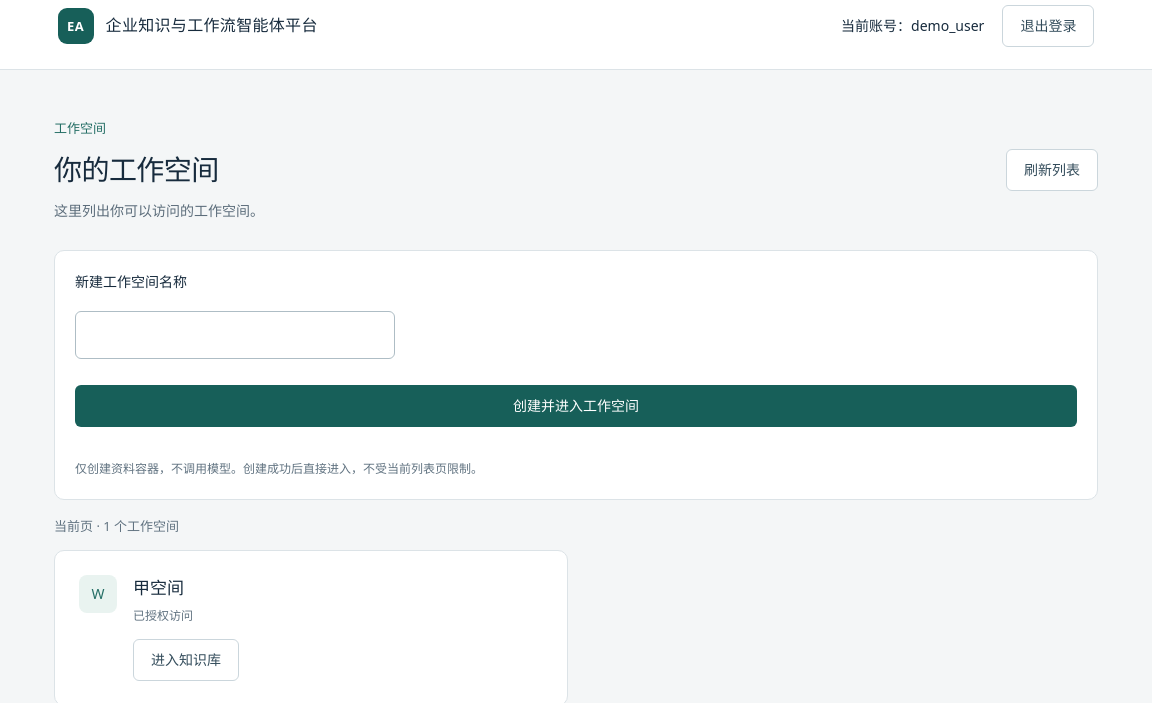
Test: self-service workspace and knowledge-base setup › validates locally, then keeps duplicate-name rejection separate from a valid empty list
The width and height of the screenshot is (1152, 703).
Click the button with aria-label "进入甲空间" at (186, 660), box [133,639,239,681]
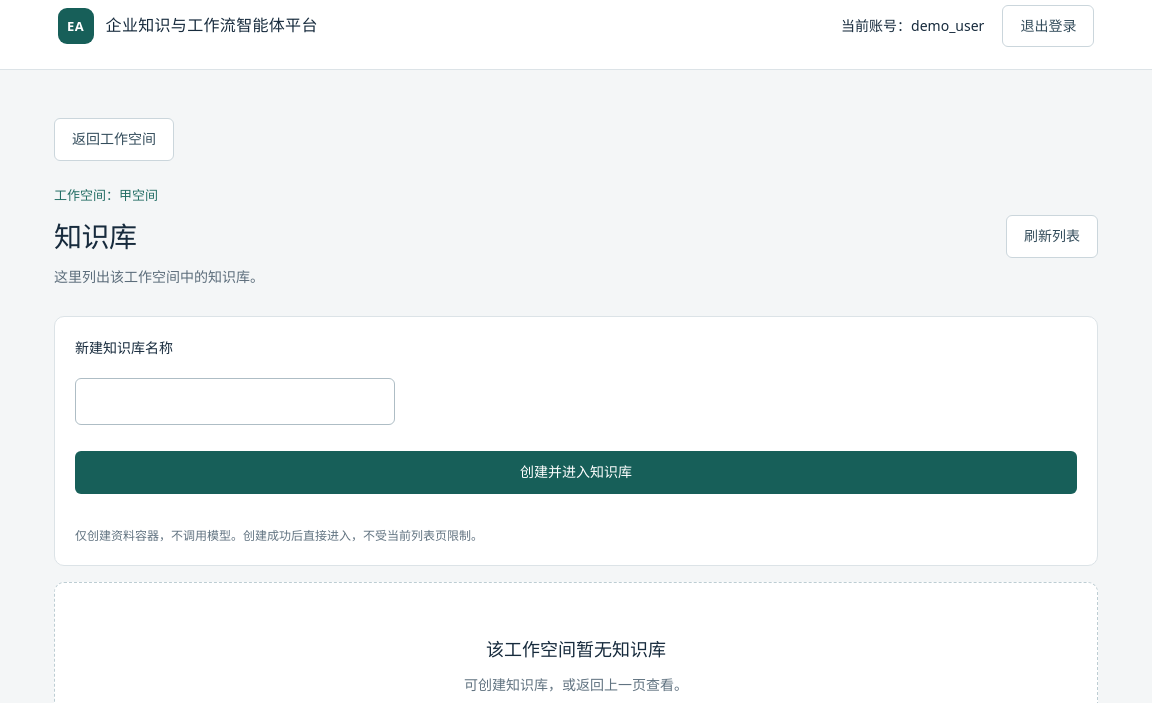
Click the button "创建并进入知识库" at (576, 472), box [75,451,1077,494]
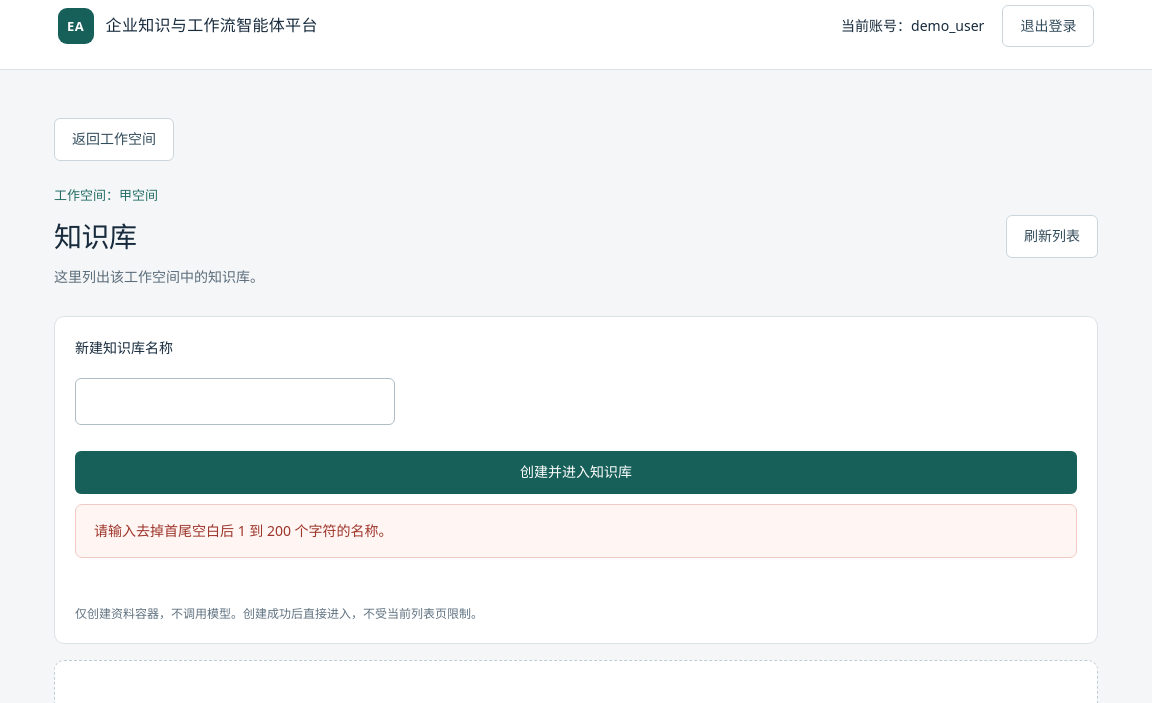
Type "已有名称" into the field labelled "新建知识库名称" at (235, 402), box [75,378,395,425]
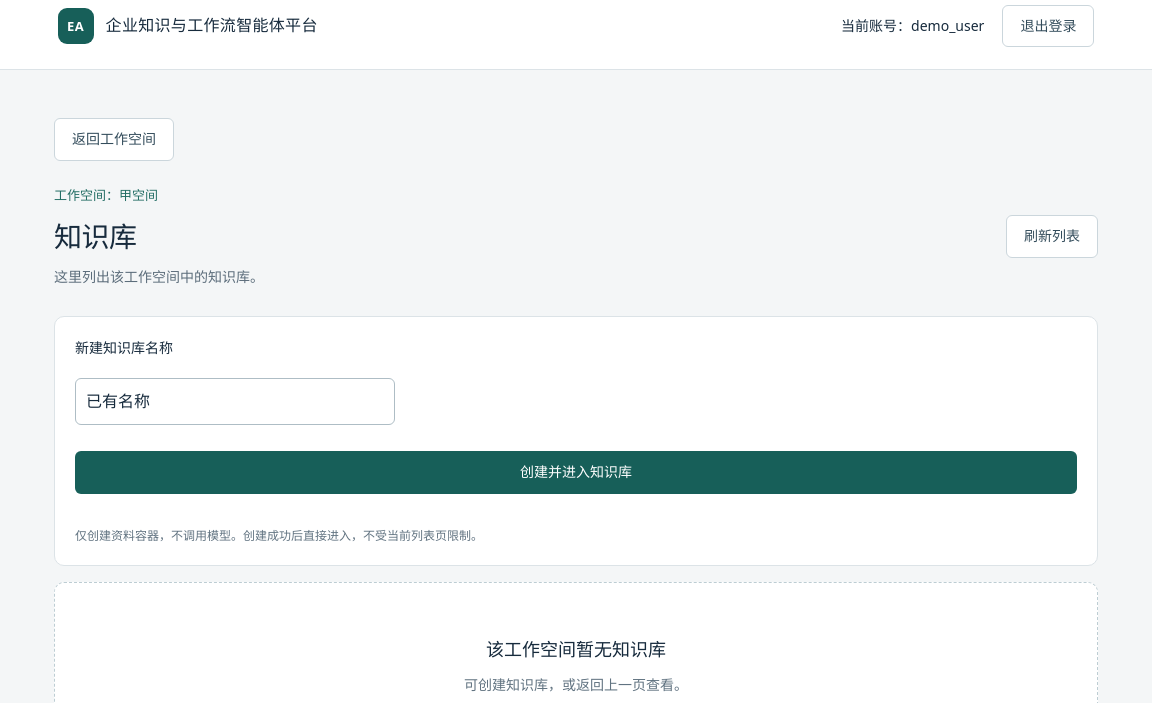
Click the button "创建并进入知识库" at (576, 472), box [75,451,1077,494]
(page scrolled)
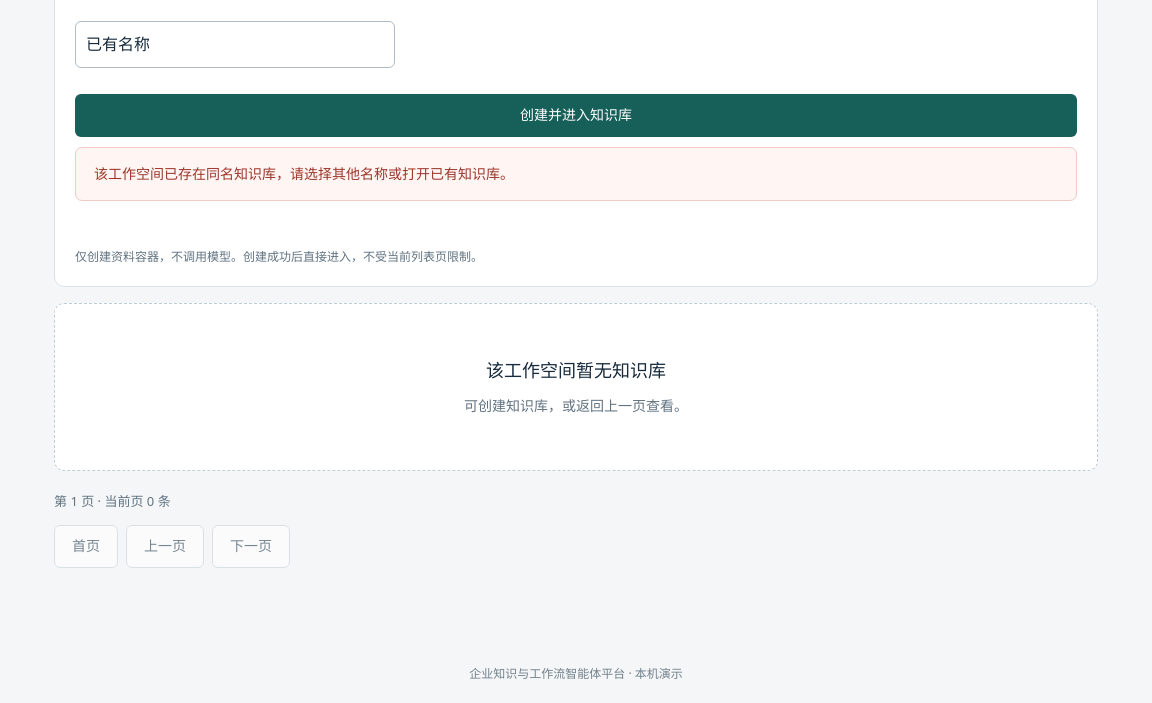
Expected: the heading "该工作空间暂无知识库" is shown, [486,358,666,382]
Expected: the message shows "同名知识库", [94,164,514,183]
